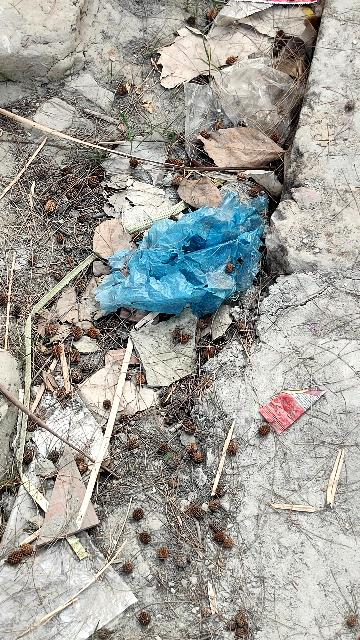polythene: (84, 189, 277, 319)
